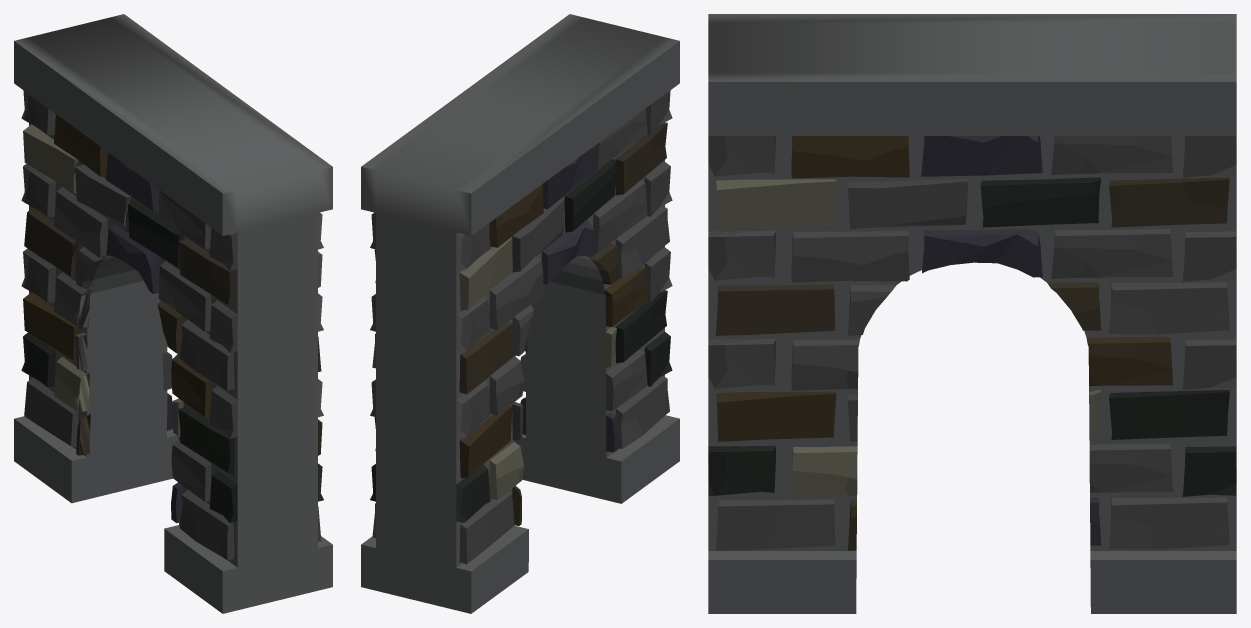
File: Doorframes.fbx
3 renders of one model, left to right at view 1: azimuth 30°, elevation 25°; view 2: azimuth 150°, elevation 25°; view 3: azimuth 270°, elevation 25°, orthographic. The views are drawn at different scales.
Parts seen in each view (by area): view 1: WallWithDoor; view 2: WallWithDoor; view 3: WallWithDoor.
Boxes of the visible parts, left/top/right/bottom form: WallWithDoor: left=14, top=14, right=332, bottom=613; WallWithDoor: left=361, top=14, right=679, bottom=613; WallWithDoor: left=708, top=14, right=1236, bottom=613.
Size of the model in its own units: 1.37 by 5 by 4.5.
